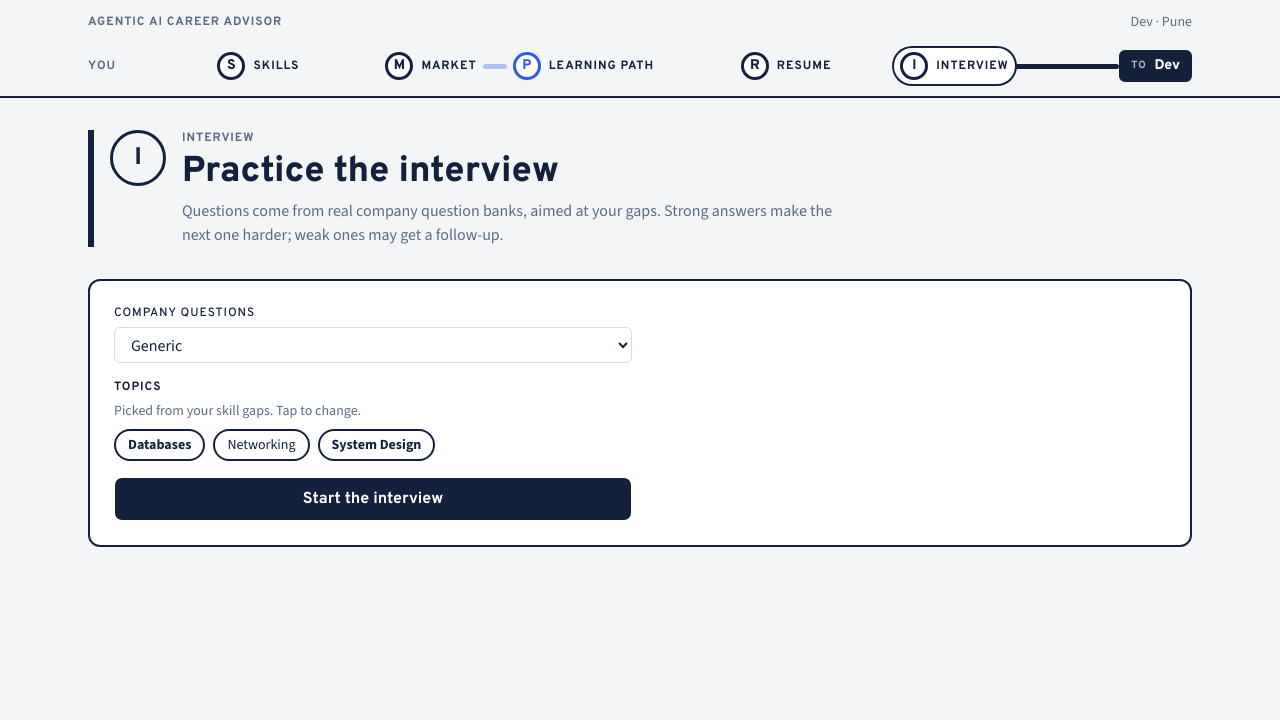
Interview topics › says why the interview could not start
Check: the button "Networking" is shown, box top-left (213, 429), bottom-right (310, 461)
Click the button "Start the interview" at coordinates (373, 499), box top-left (114, 477), bottom-right (632, 521)
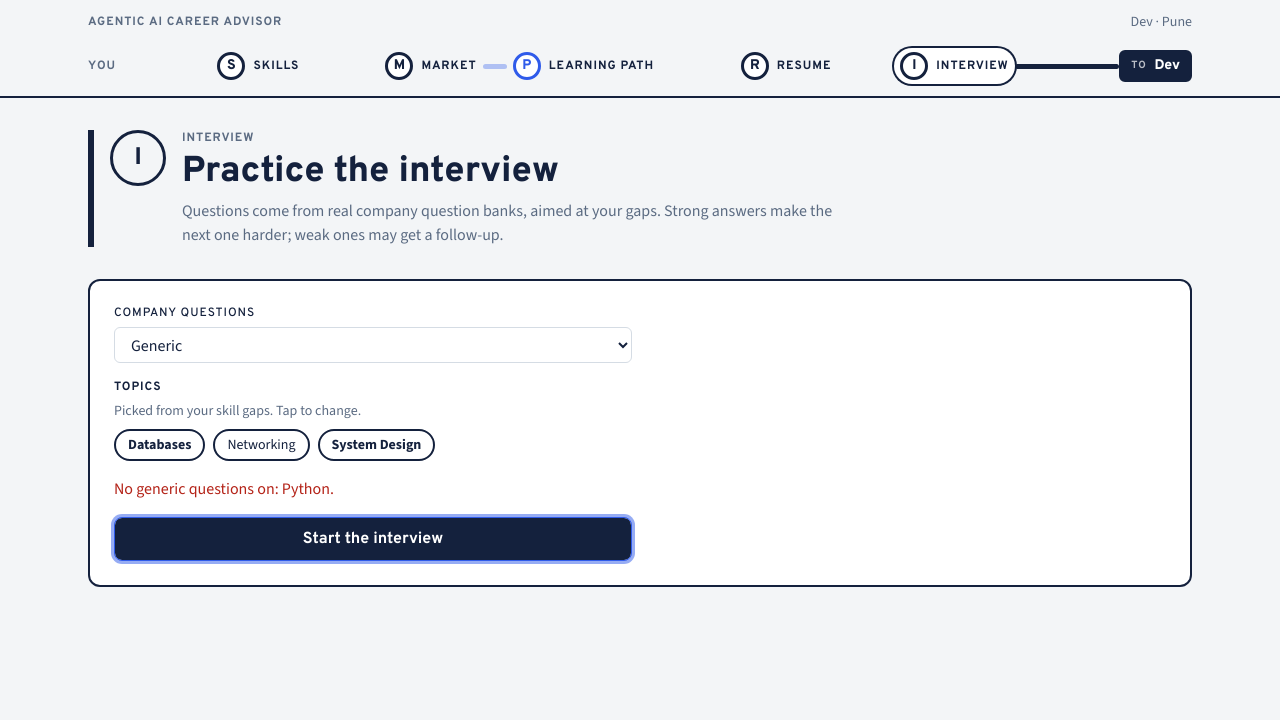
Check: the message reads "No generic questions on: Python.", box top-left (114, 478), bottom-right (334, 499)
